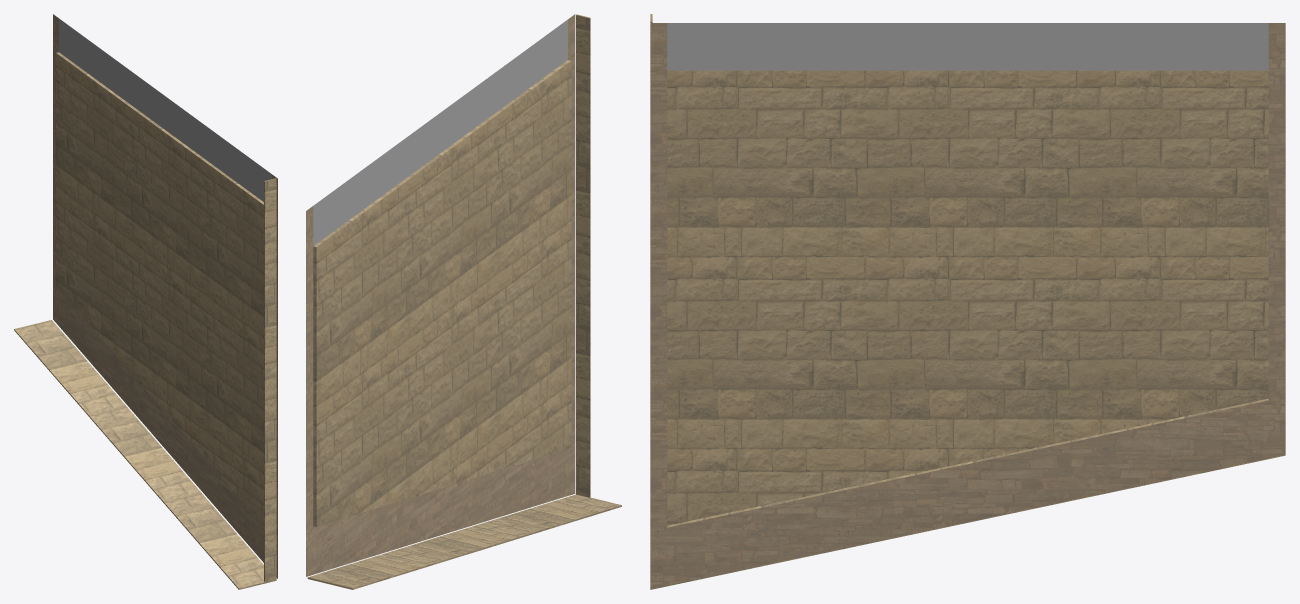
The model's file is tea-terrace-receivers-tea-stairs.glb.
3 renders of one model, left to right at view 1: azimuth 30°, elevation 25°; view 2: azimuth 150°, elevation 25°; view 3: azimuth 270°, elevation 25°, orthographic. The views are drawn at different scales.
Parts seen in each view (by area): view 1: bz06_dressed_sandstone-cast, bz06_service_stone-cast, ph_bz04_stone_trim_sandstone-cast; view 2: bz06_dressed_sandstone-cast, bz06_service_stone-cast, ph_bz04_stone_trim_sandstone-cast; view 3: bz06_dressed_sandstone-cast, bz06_service_stone-cast, ph_bz04_stone_trim_sandstone-cast.
Boxes of the visible parts, x1=… form: bz06_dressed_sandstone-cast: x1=14, y1=52, x2=276, y2=589; bz06_service_stone-cast: x1=53, y1=14, x2=277, y2=578; ph_bz04_stone_trim_sandstone-cast: x1=59, y1=18, x2=271, y2=201; bz06_dressed_sandstone-cast: x1=307, y1=14, x2=621, y2=589; bz06_service_stone-cast: x1=306, y1=14, x2=575, y2=576; ph_bz04_stone_trim_sandstone-cast: x1=313, y1=19, x2=567, y2=245; bz06_dressed_sandstone-cast: x1=650, y1=14, x2=1285, y2=589; bz06_service_stone-cast: x1=650, y1=23, x2=1285, y2=588; ph_bz04_stone_trim_sandstone-cast: x1=667, y1=23, x2=1268, y2=70.
Size of the model in its own units: 0.6 by 5.92 by 6.
3 materials, 2 textured.
